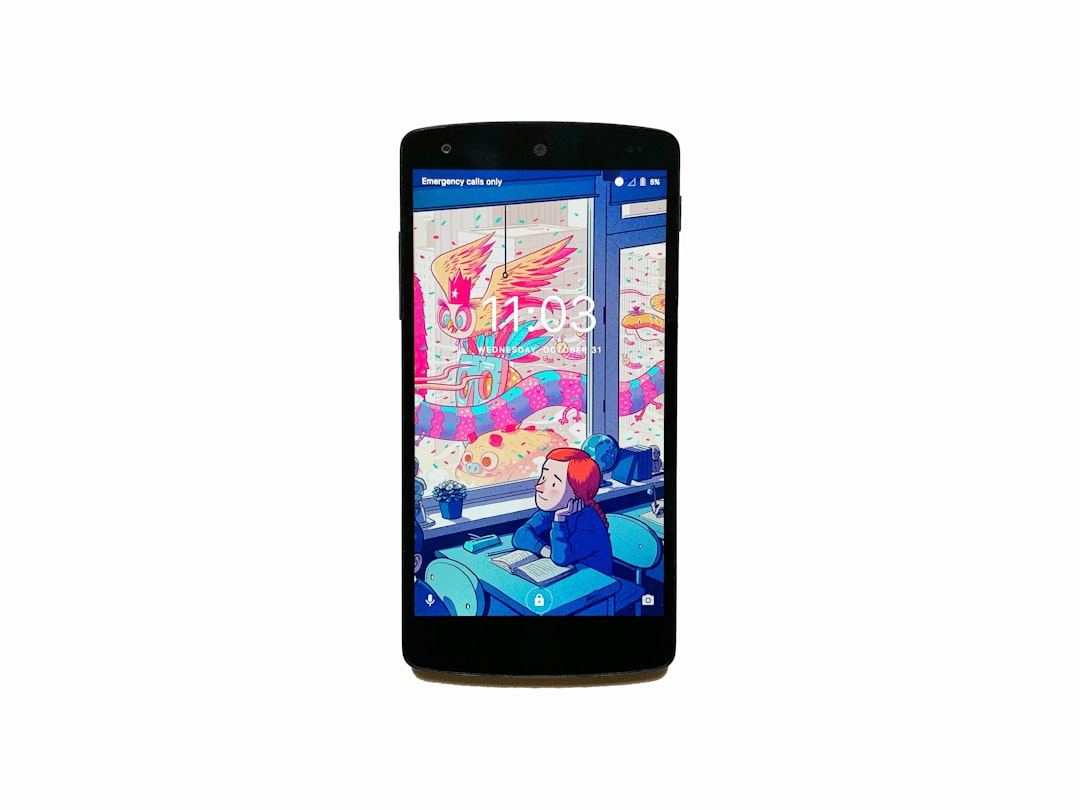phone: (397, 119, 680, 679)
